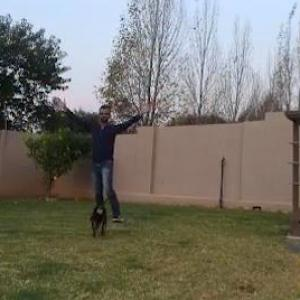takeoff: (67, 96, 167, 221)
